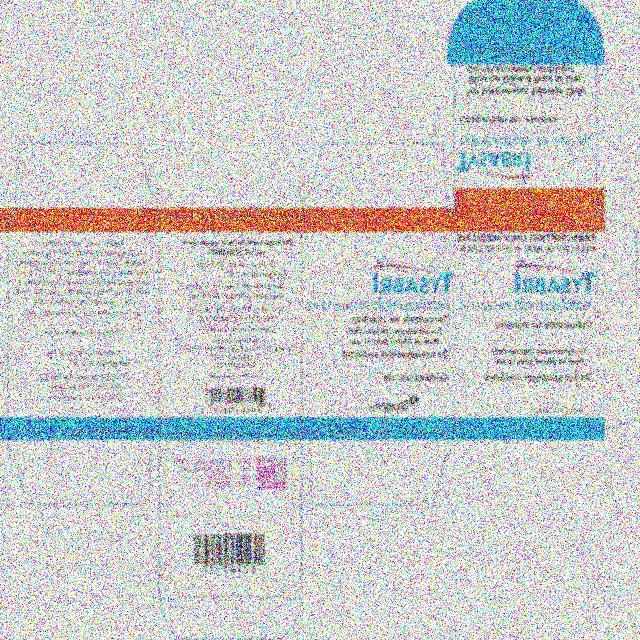Artwork: (0, 0, 640, 640)
Back_Panel: (159, 215, 301, 432)
Bottom_Part: (159, 433, 302, 600)
Extra_Areas: (304, 431, 454, 506), (9, 140, 159, 215), (7, 433, 157, 507), (303, 142, 453, 216), (597, 214, 640, 432), (454, 2, 597, 49), (159, 599, 302, 640), (454, 432, 606, 442), (159, 206, 303, 215)
Front_Panel: (455, 213, 597, 433)
Side_Panel: (302, 216, 455, 431), (8, 216, 159, 433)
Top_Panel: (454, 50, 597, 213)
